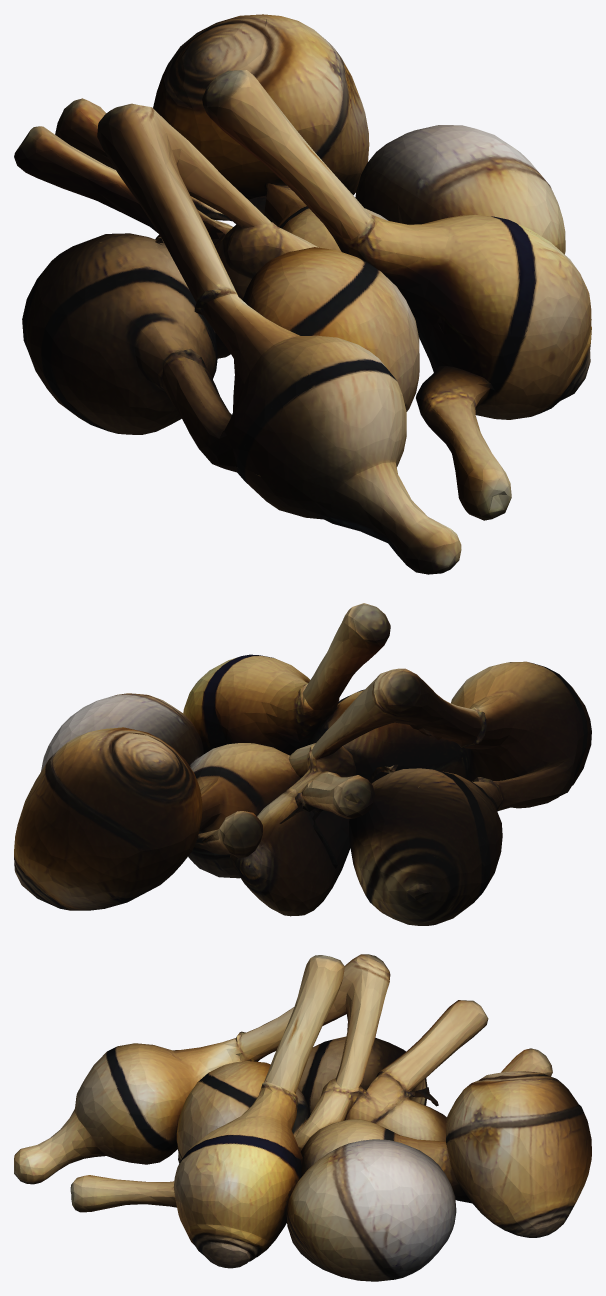
File: driftwood-maracas-rustic.jpeg.glb
3 views of the same model, one above another, from view 1: azimuth 30°, elevation 25°; view 2: azimuth 150°, elevation 25°; view 3: azimuth 270°, elevation 25° (orthographic). The views are drawn at different scales.
Visible parts, largest first — view 1: world; view 2: world; view 3: world.
Part boxes in pixels (<box>): world: <box>14,14,591,574</box>; world: <box>14,603,591,925</box>; world: <box>14,954,591,1281</box>.
Bounding box in the file's own units: 0.7044 × 0.4561 × 0.9996.
Materials: 1 (1 with a texture image).
